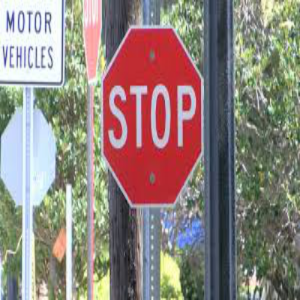STOP_SIGN: (100, 25, 204, 207)
